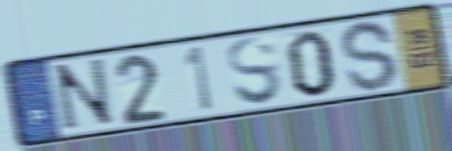0: (284, 28, 339, 99)
1: (182, 43, 216, 114)
2: (113, 50, 170, 128)
N: (50, 55, 119, 135)
S: (337, 18, 401, 95), (224, 34, 286, 108)
